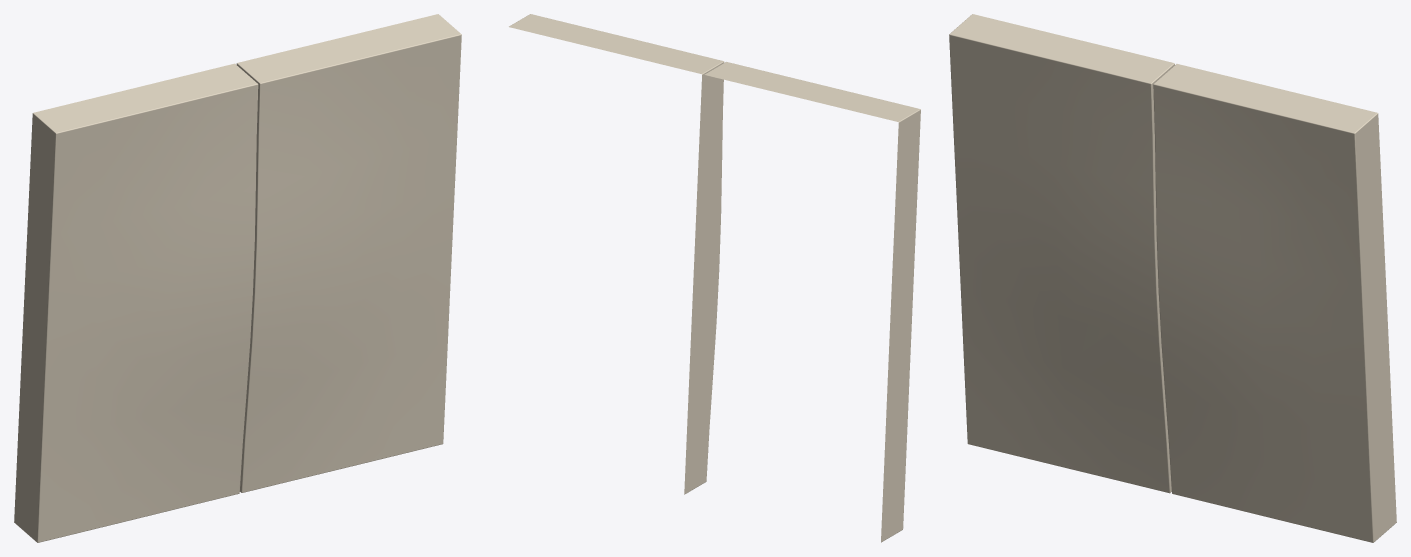
The model's file is cream.glb.
3 views of the same model, side by side, from view 1: azimuth 30°, elevation 25°; view 2: azimuth 150°, elevation 25°; view 3: azimuth 330°, elevation 25° (orthographic). The views are drawn at different scales.
Visible parts, largest first — view 1: Object011; view 2: Object011; view 3: Object011.
Boxes of the visible parts, x1=… form: Object011: x1=14, y1=14, x2=461, y2=542; Object011: x1=509, y1=14, x2=920, y2=542; Object011: x1=949, y1=14, x2=1396, y2=542.
Size of the model in its own units: 0.0528 by 0.053 by 0.00946.
